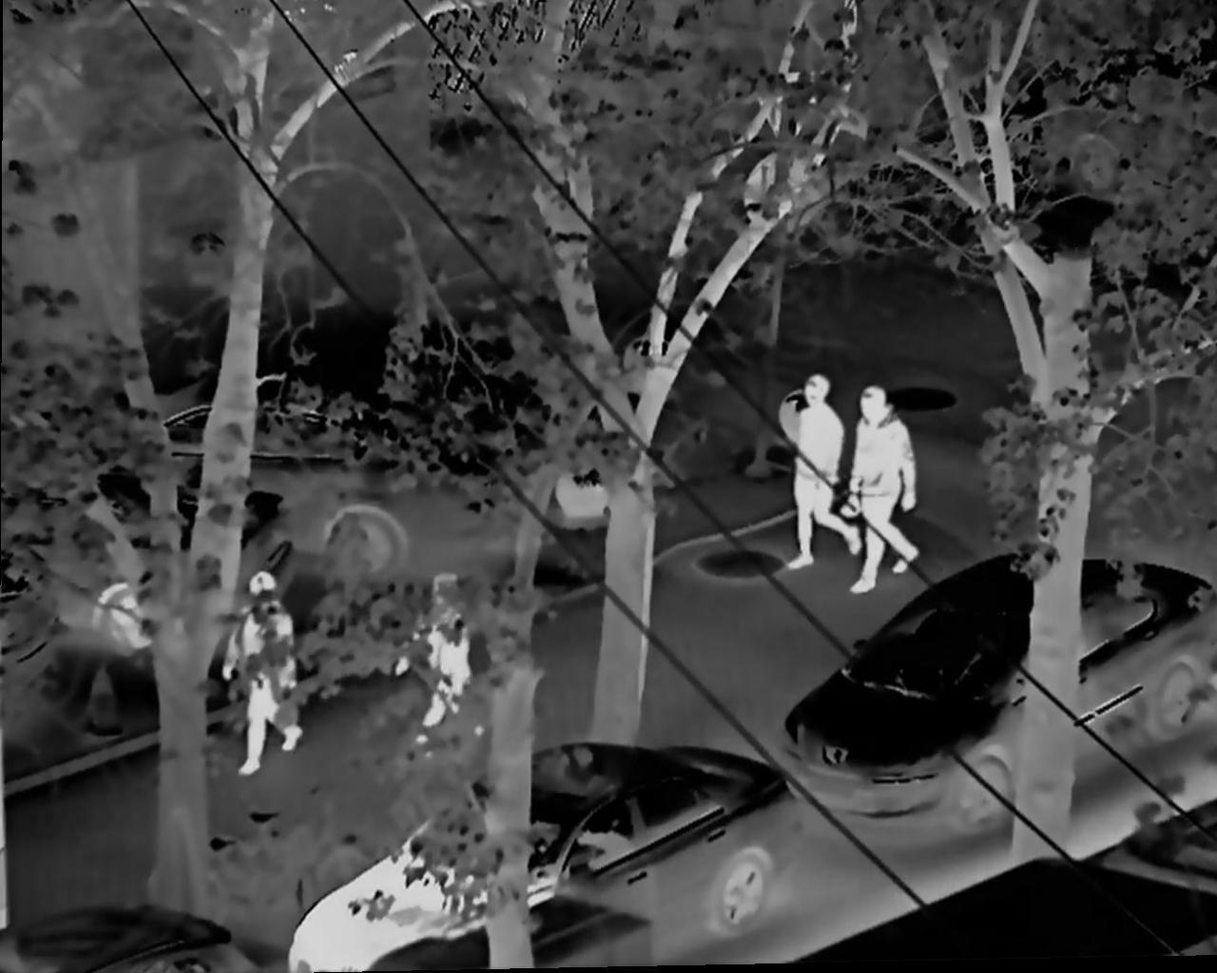person: (213, 569, 320, 776), (774, 374, 861, 570), (851, 385, 928, 596), (396, 596, 491, 760)
